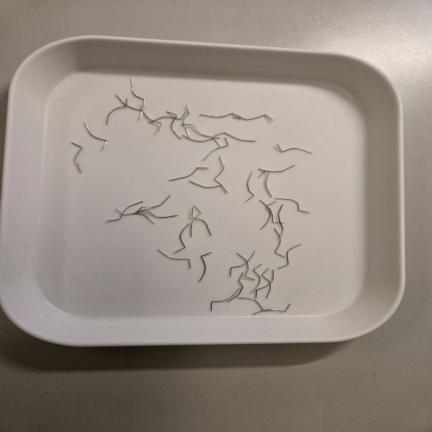probe: (158, 249, 191, 268), (85, 122, 107, 149), (169, 167, 208, 181), (276, 198, 309, 213), (198, 252, 212, 281), (276, 144, 312, 154), (71, 142, 82, 172), (245, 171, 254, 202)
